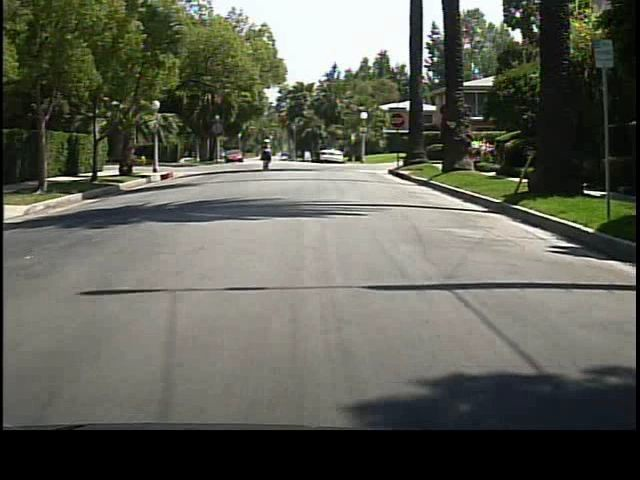person: (259, 134, 275, 171)
